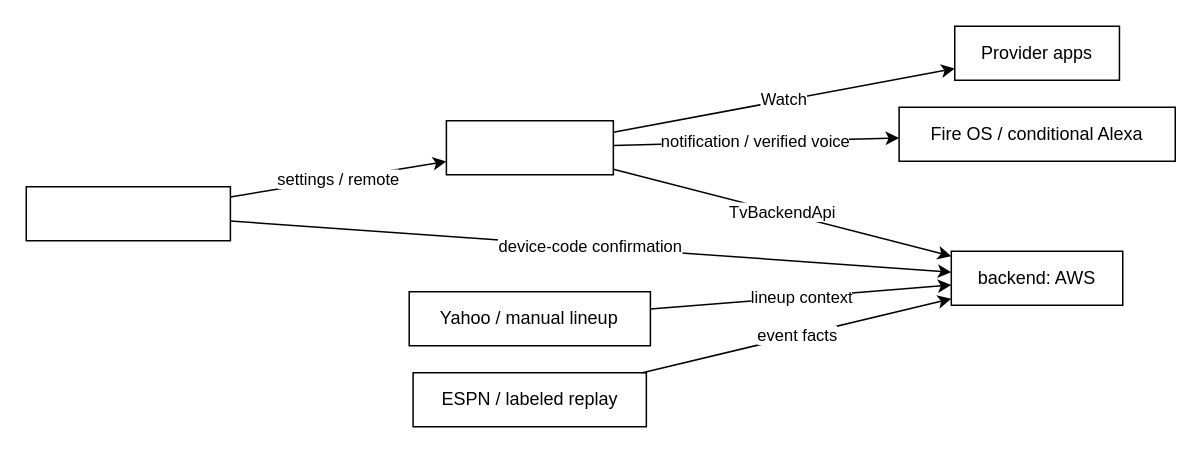
Some shapes in this 1202 by 453 pixel diagram are drawn without their labels. The centre of each missing label's shape, as x and y in pixels:
"Customer / phone" belongs at point 127,213.
"tvApp: Fire TV" belongs at point 529,147.
